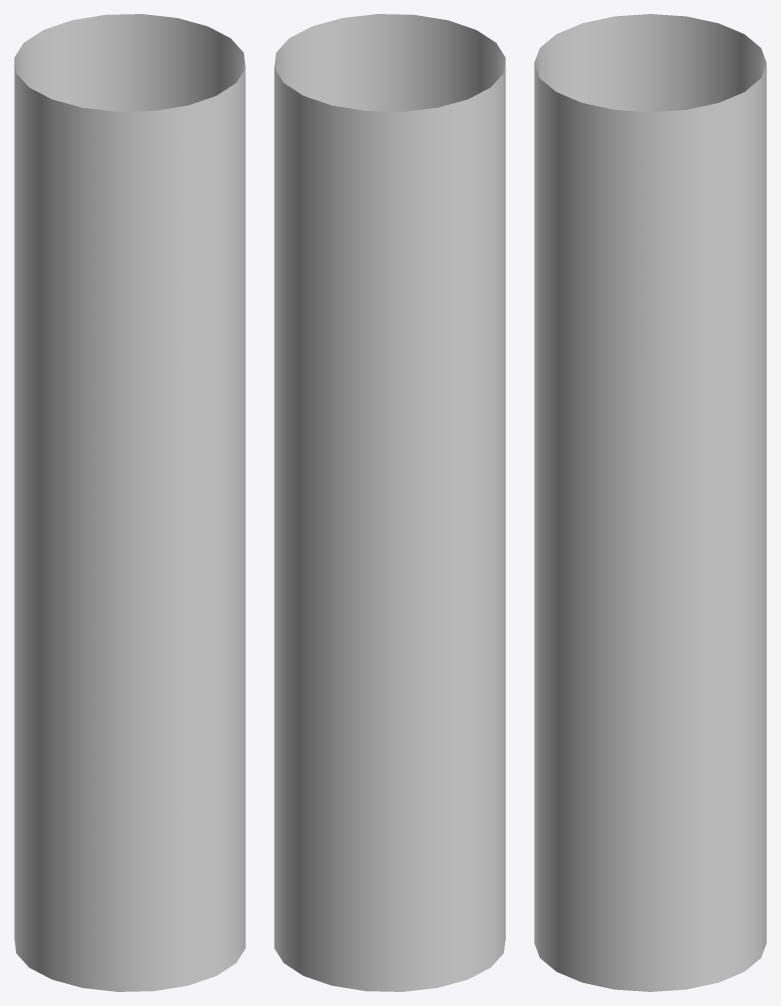
File: effect_light_shaft.fbx
The picture shows the model from 3 angles, left to right: view 1: azimuth 30°, elevation 25°; view 2: azimuth 150°, elevation 25°; view 3: azimuth 270°, elevation 25°; orthographic projection.
Visible parts, largest first — view 1: polySurface1; view 2: polySurface1; view 3: polySurface1.
Boxes of the visible parts, box(x1,y1,x2,y2) form: polySurface1: box(14, 14, 245, 991); polySurface1: box(274, 14, 505, 991); polySurface1: box(534, 14, 766, 991).
Bounding box in the file's own units: 1.56 × 6.5 × 1.56.
1 material, 1 textured.
